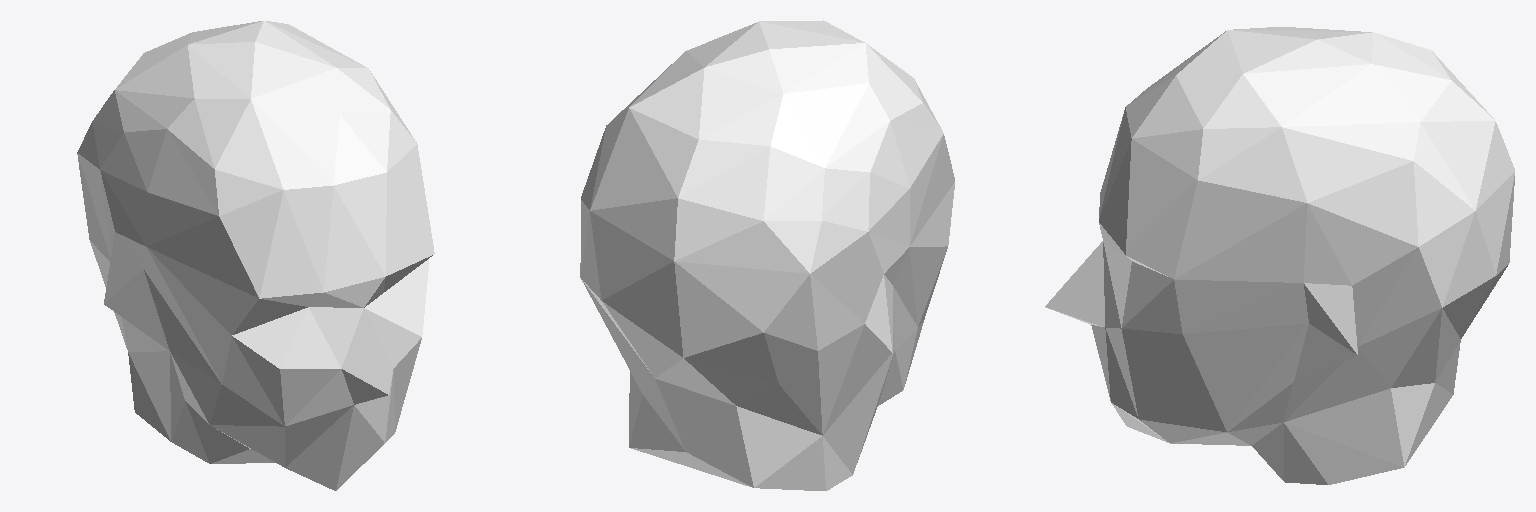
robot.urdf — /* robot_name */:
<?xml version="1.0"?>
<robot name="/* robot_name */">

  <material name="blue">
    <color rgba="0 0 0.8 1"/>
  </material>

  <material name="white">
    <color rgba="1 1 1 1"/>
  </material>

  <material name="green">
    <color rgba="0.5 1 0 1"/>
  </material>


    <link name="base_link">
    <visual>
      <geometry>
        <cylinder length="0.2" radius="0.2"/>
      </geometry>
      <material name="blue"/>
    </visual>
   </link>

  <link name="base_link2">
    <visual>
      <geometry>
        <cylinder length="0.2" radius="0.2"/>
      </geometry>
      <material name="blue"/>
    </visual>
  </link>

  
    <joint name="pitch" type="continuous">
    <parent link="base_link"/>
    <child link="base_link2"/>
    <axis xyz="-1.0 0.0 0.0"/>
    <origin xyz="0 0 0.1"/>
  </joint>

  <link name="base_link3">
    <visual>
      <geometry>
        <cylinder length="0.2" radius="0.2"/>
      </geometry>
      <material name="blue"/>
    </visual>
    </link>

  <joint name="yaw" type="continuous">
    <parent link="base_link2"/>
    <child link="base_link3"/>
    <axis xyz="0.0 -1.0 0.0"/>
    <origin xyz="0 0 0.1"/>
  </joint>

  <link name="head">
    <visual>
      <geometry>
        <mesh filename="package://IMU_ADQ_pck/urdf/mesh/human-head-simplified.dae" scale="0.008 0.008 0.008"/>
      </geometry>
      <origin rpy="0 0 0" xyz="0 0 0.3"/>
      <material name="white"/>
    </visual>
  </link>


  <joint name="roll" type="continuous">
    <parent link="base_link3"/>
    <child link="head"/>
    <origin xyz="0 0 0.1"/>
    <axis xyz="0.0 0.0 -1.0"/>
  </joint>

  <!-- This is the start of the reference part!-->



  <link name="base_link2_ref">
    <visual>
      <geometry>
        <cylinder length="0.2" radius="0.2"/>
      </geometry>
      <material name="blue"/>
    </visual>
  </link>

  
    <joint name="pitch_ref" type="continuous">
    <parent link="base_link"/>
    <child link="base_link2_ref"/>
    <axis xyz="1.0 0.0 0.0"/>
    <origin xyz="0 0 0.1" rpy="0 0 0"/>
  </joint>

  <link name="base_link3_ref">
    <visual>
      <geometry>
        <cylinder length="0.2" radius="0.2"/>
      </geometry>
      <material name="blue"/>
    </visual>
    </link>

  <joint name="yaw_ref" type="continuous">
    <parent link="base_link2_ref"/>
    <child link="base_link3_ref"/>
    <axis xyz="0.0 -1.0 0.0"/>
    <origin xyz="0 0 0.1" rpy="0 0 0"/>
  </joint>

  <link name="head_ref">
    <visual>
      <geometry>
        <mesh filename="package://IMU_ADQ_pck/urdf/mesh/human-head-simplified.stl" scale="0.008 0.008 0.008"/>
      </geometry>
      <origin rpy="0 0 0" xyz="0 0 0.3"/>
      <material name="green"/>
    </visual>
  </link>


  <joint name="roll_ref" type="continuous">
    <parent link="base_link3_ref"/>
    <child link="head_ref"/>
    <origin xyz="0 0 0.1" rpy="0 0 0"/>
    <axis xyz="0.0 0.0 -1.0"/>
  </joint>

</robot>

--- Render facts (derived) ---
3 views of the same robot in one strip: view 1: azimuth 30°, elevation 25°; view 2: azimuth 150°, elevation 25°; view 3: azimuth 270°, elevation 25° (orthographic).
Model /* robot_name */ with 7 links and 6 joints (6 continuous), rooted at base_link, posed all joints at 0.
Links seen in each view (by area): view 1: head; view 2: head; view 3: head.
Boxes of the visible links, x1=… form: head: x1=77, y1=21, x2=434, y2=490; head: x1=580, y1=20, x2=954, y2=490; head: x1=1045, y1=27, x2=1514, y2=484.
Size in the robot's own frame: 1.31 by 1.86 by 1.82 metres.
2 mesh visuals loaded from 2 distinct referenced files (1 binary STL, 1 Collada DAE).